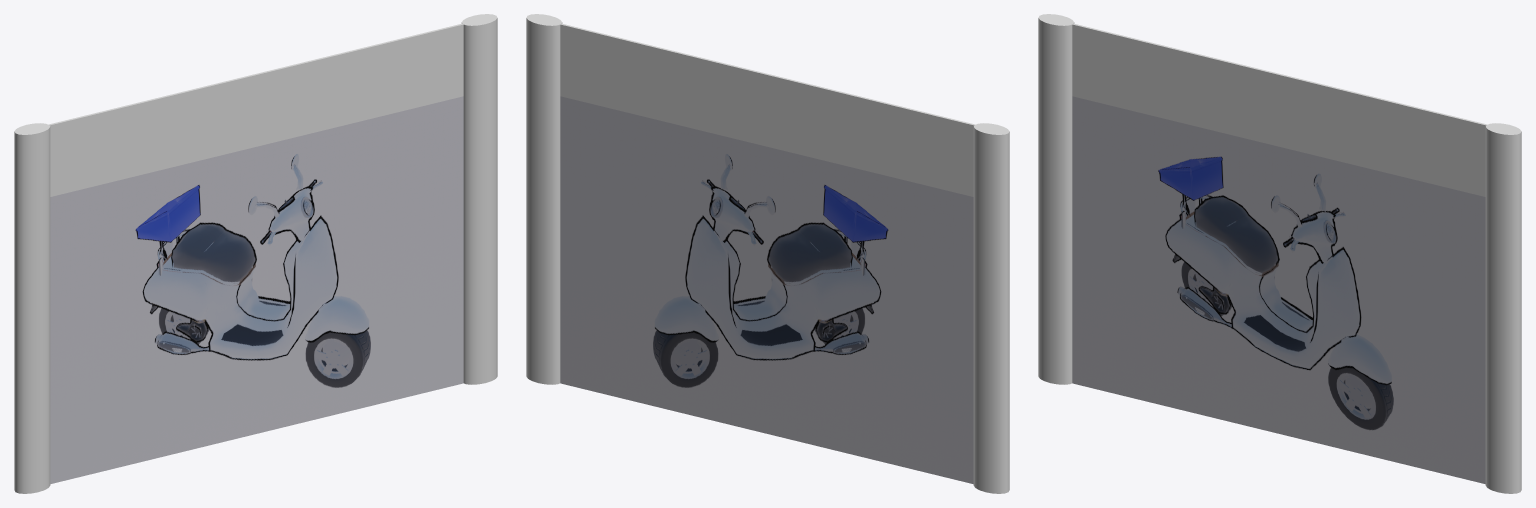
File: image-gate-motorcycle.fbx
The picture shows the model from 3 angles, left to right: view 1: azimuth 30°, elevation 25°; view 2: azimuth 150°, elevation 25°; view 3: azimuth 330°, elevation 25°; orthographic projection.
Visible parts, largest first — view 1: image-gate-motorcycle, upper-plane.001, cylinder-R.001, cylinder-L.001; view 2: image-gate-motorcycle, upper-plane.001, cylinder-R.001, cylinder-L.001; view 3: image-gate-motorcycle, upper-plane.001, cylinder-L.001, cylinder-R.001.
Part boxes in pixels (bbox=[...]): image-gate-motorcycle: bbox=[50, 96, 463, 484]; upper-plane.001: bbox=[40, 21, 471, 196]; cylinder-R.001: bbox=[14, 123, 50, 493]; cylinder-L.001: bbox=[461, 14, 497, 384]; image-gate-motorcycle: bbox=[560, 96, 973, 484]; upper-plane.001: bbox=[552, 21, 974, 196]; cylinder-R.001: bbox=[973, 123, 1009, 493]; cylinder-L.001: bbox=[526, 14, 562, 384]; image-gate-motorcycle: bbox=[1072, 96, 1485, 484]; upper-plane.001: bbox=[1064, 21, 1495, 196]; cylinder-L.001: bbox=[1485, 123, 1521, 493]; cylinder-R.001: bbox=[1038, 14, 1074, 384].
Size of the model in its own units: 4.36 by 3.11 by 0.183.
